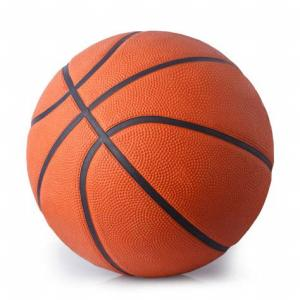Basket: (25, 30, 274, 278)
